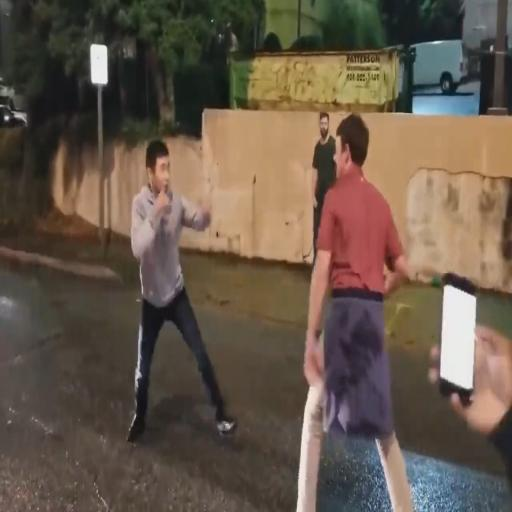violencia: (119, 109, 417, 512)
